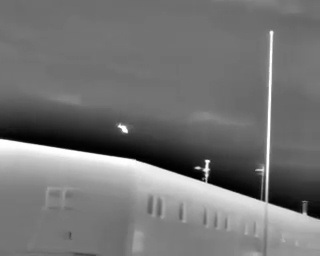HELICOPTER: (115, 119, 137, 138)
